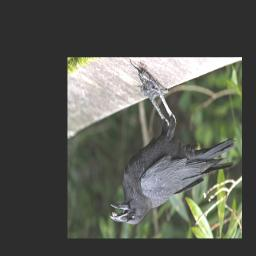Crow: (110, 78, 237, 225)
